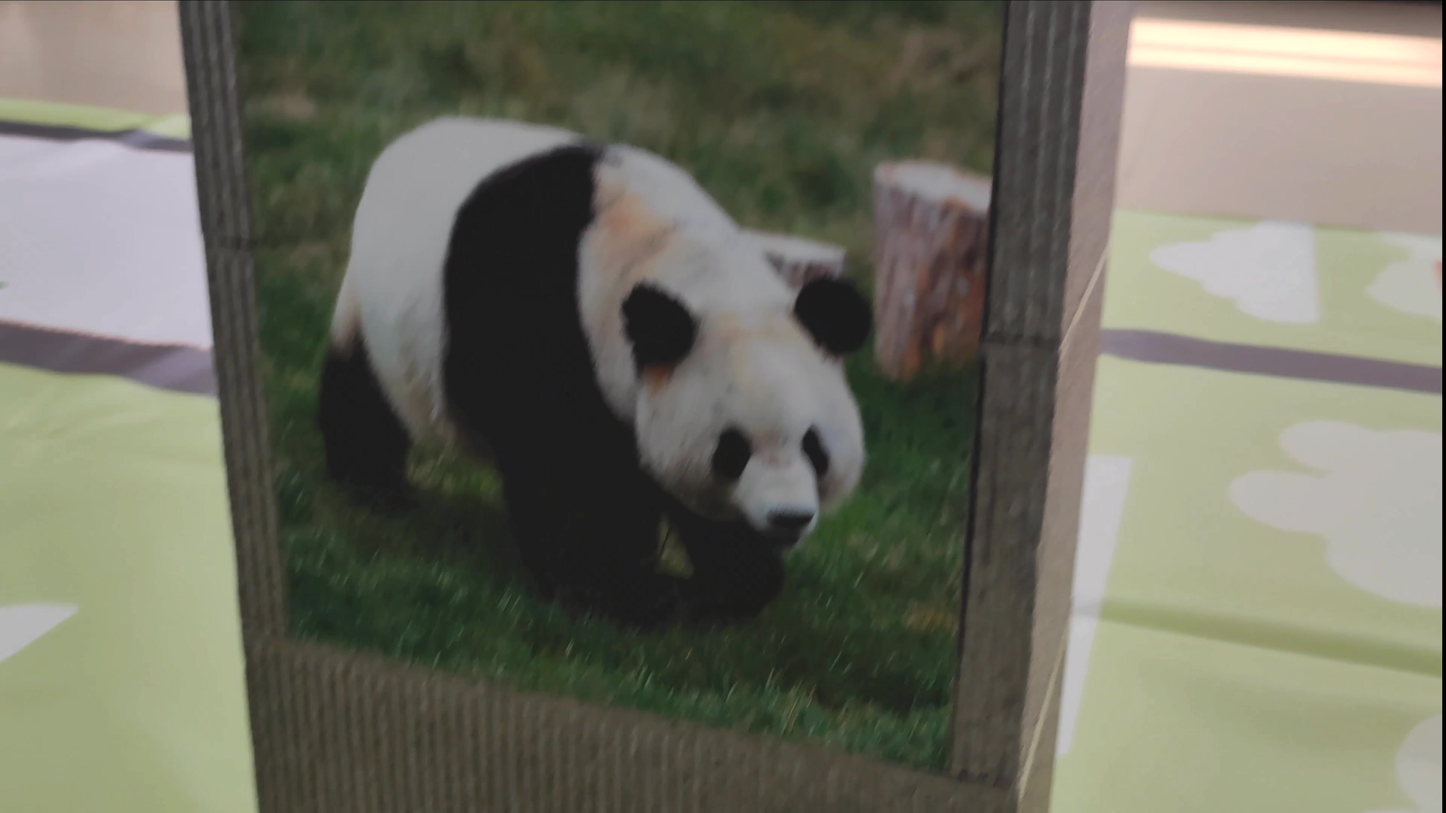panda: (290, 94, 871, 642)
